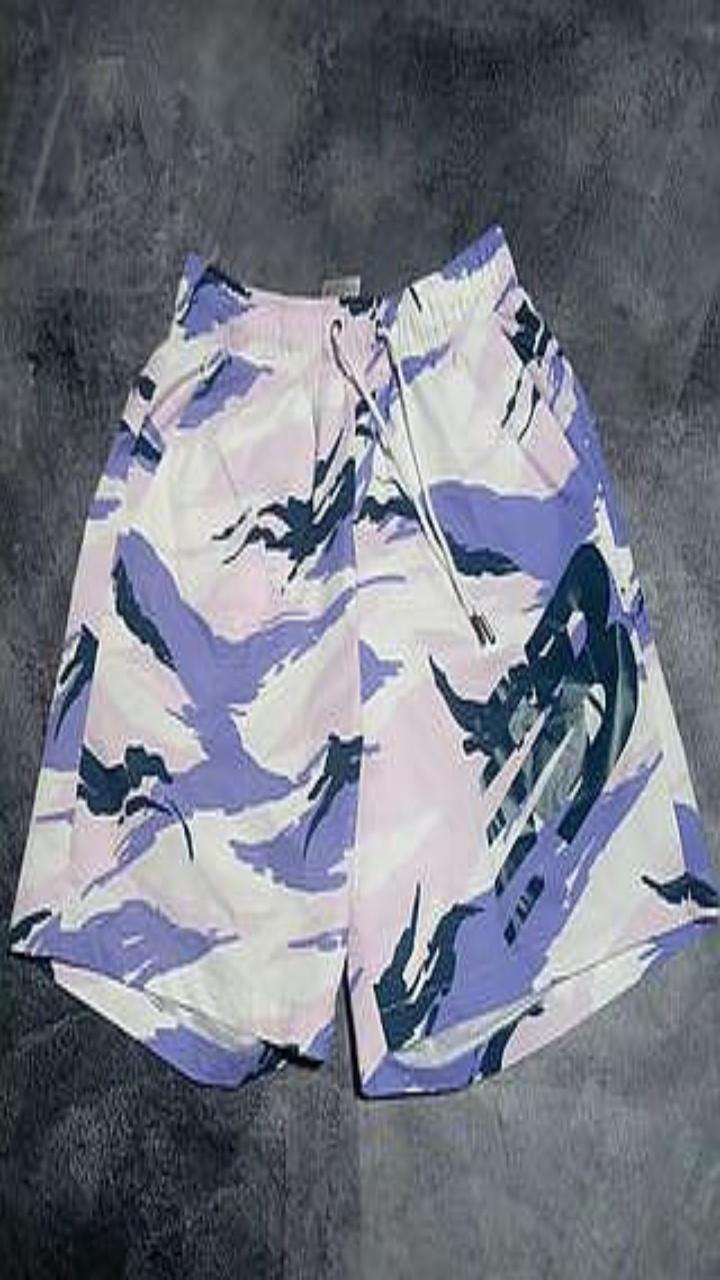Shorts: (9, 224, 718, 1096)
